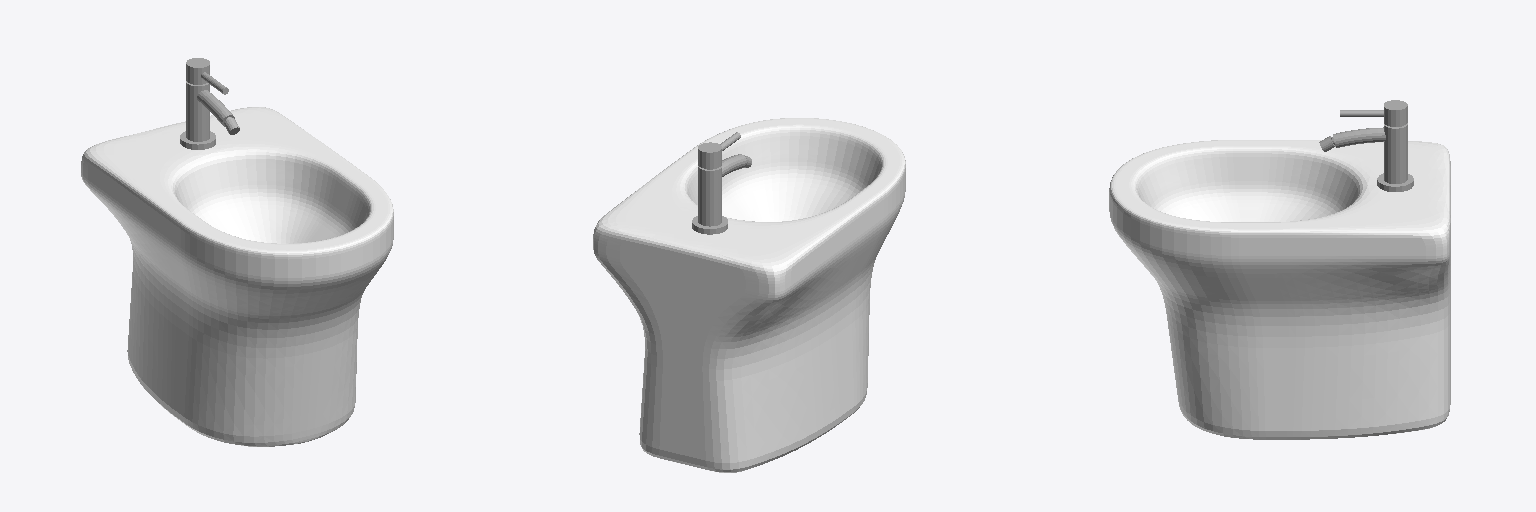
The model's file is bidet.obj.
The picture shows the model from 3 angles: view 1: azimuth 30°, elevation 25°; view 2: azimuth 150°, elevation 25°; view 3: azimuth 270°, elevation 25°; orthographic projection.
Parts seen in each view (by area): view 1: Rectangle02_1, Cylinder02_2, Cylinder06_6, Cylinder04_4; view 2: Rectangle02_1, Cylinder02_2, Cylinder04_4; view 3: Rectangle02_1, Cylinder02_2, Cylinder06_6, Cylinder04_4.
Boxes of the visible parts, x1,y1,x2,y2 form: Rectangle02_1: [81, 107, 393, 446]; Cylinder02_2: [186, 81, 209, 141]; Cylinder06_6: [197, 90, 234, 126]; Cylinder04_4: [186, 58, 209, 84]; Rectangle02_1: [593, 118, 905, 472]; Cylinder02_2: [698, 166, 721, 226]; Cylinder04_4: [698, 142, 721, 168]; Rectangle02_1: [1109, 140, 1450, 439]; Cylinder02_2: [1384, 123, 1407, 183]; Cylinder06_6: [1333, 127, 1385, 147]; Cylinder04_4: [1384, 100, 1407, 126].
Bounding box in the file's own units: 36 × 54.3 × 55.73.